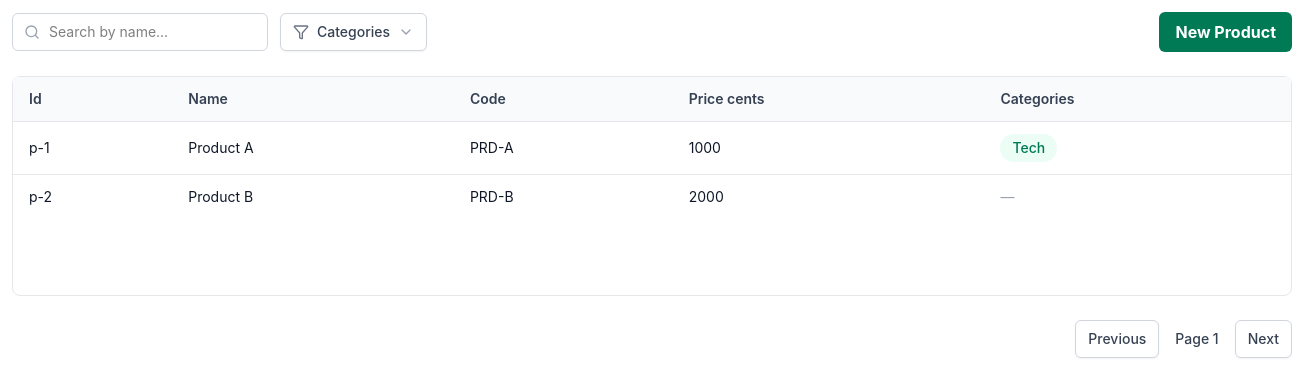
Test: Product/Index.vue › Search and Category filtering › clears search when clear button is clicked
Type "test" into the search field with placeholder "Search by name..." at (140, 32), box [12, 13, 268, 51]
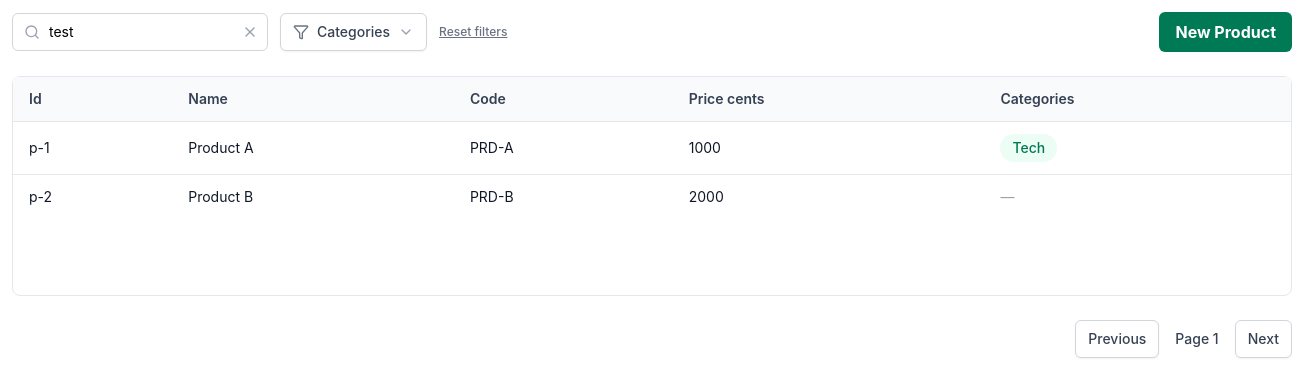
Check: the button named "Clear search" is shown
Click the button named "Clear search" at (250, 32), box [242, 24, 258, 40]
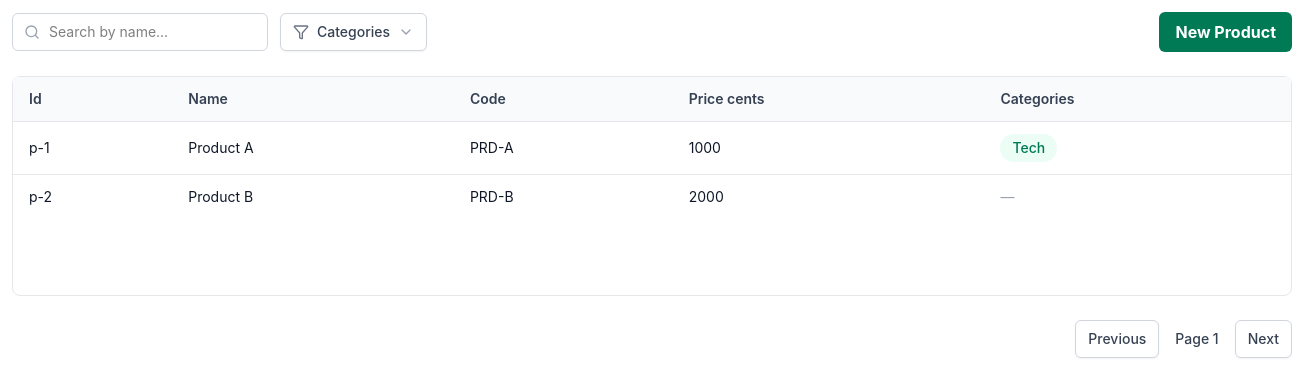
Check: the search field with placeholder "Search by name..." is empty, box [12, 13, 268, 51]
